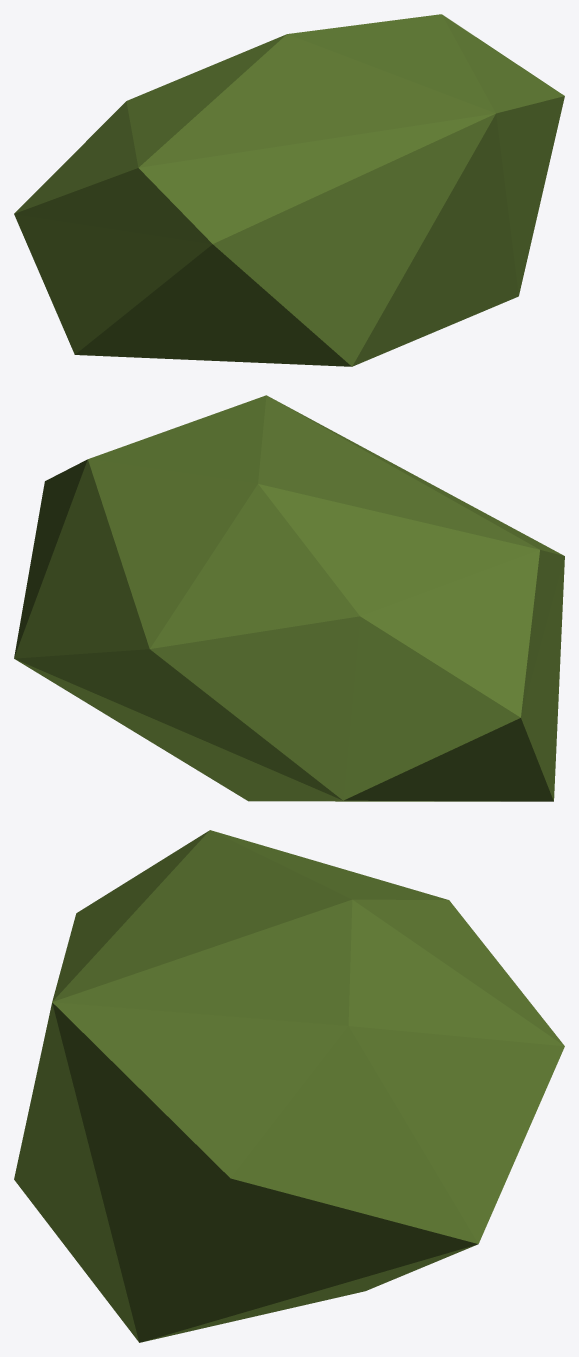
File: Bush_2.fbx
3 renders of one model, top to bottom at view 1: azimuth 30°, elevation 25°; view 2: azimuth 150°, elevation 25°; view 3: azimuth 270°, elevation 25°, orthographic. The views are drawn at different scales.
Visible parts, largest first — view 1: Bush_2; view 2: Bush_2; view 3: Bush_2.
Part boxes in pixels (x1=…): Bush_2: x1=14, y1=14, x2=564, y2=366; Bush_2: x1=14, y1=395, x2=564, y2=801; Bush_2: x1=14, y1=830, x2=564, y2=1342.
Bounding box in the file's own units: 349 × 192 × 246.
